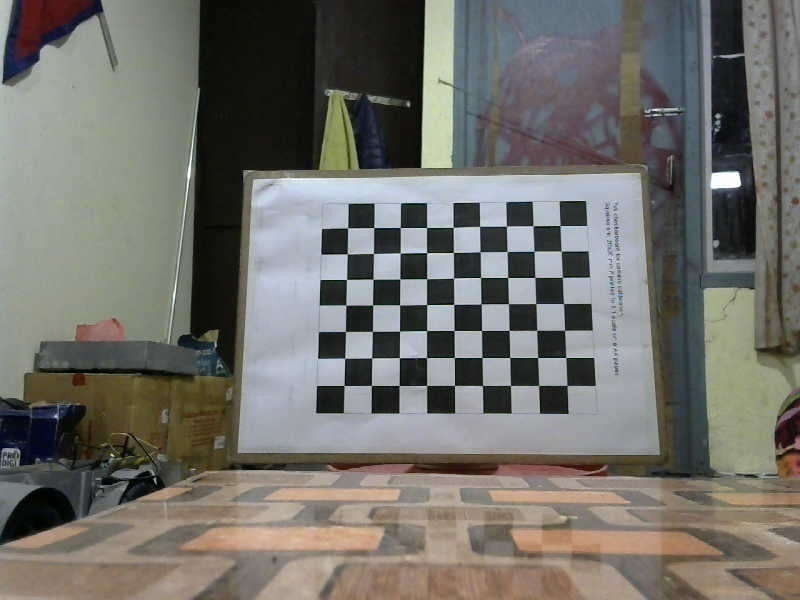block: (243, 173, 664, 454)
